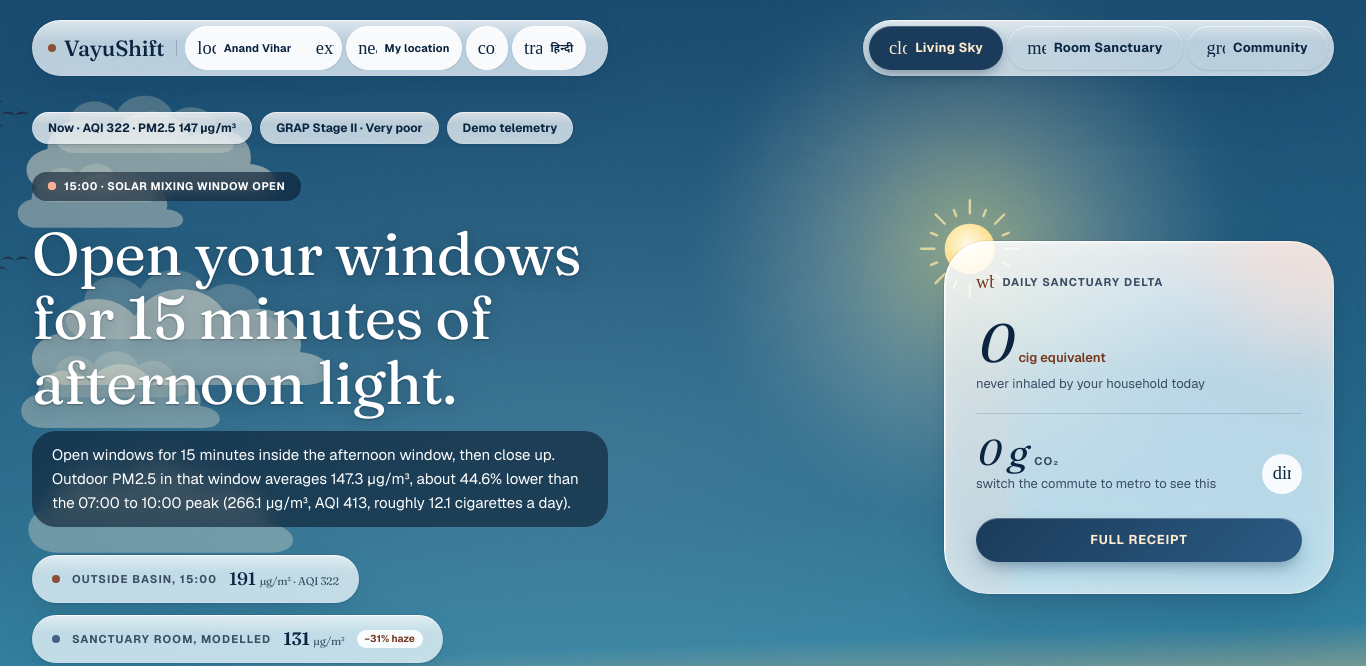
it: language switch › a status message already on screen is re-rendered when the language changes
Click the button with aria-label "Use my location" at [404, 48], box [346,26,462,70]
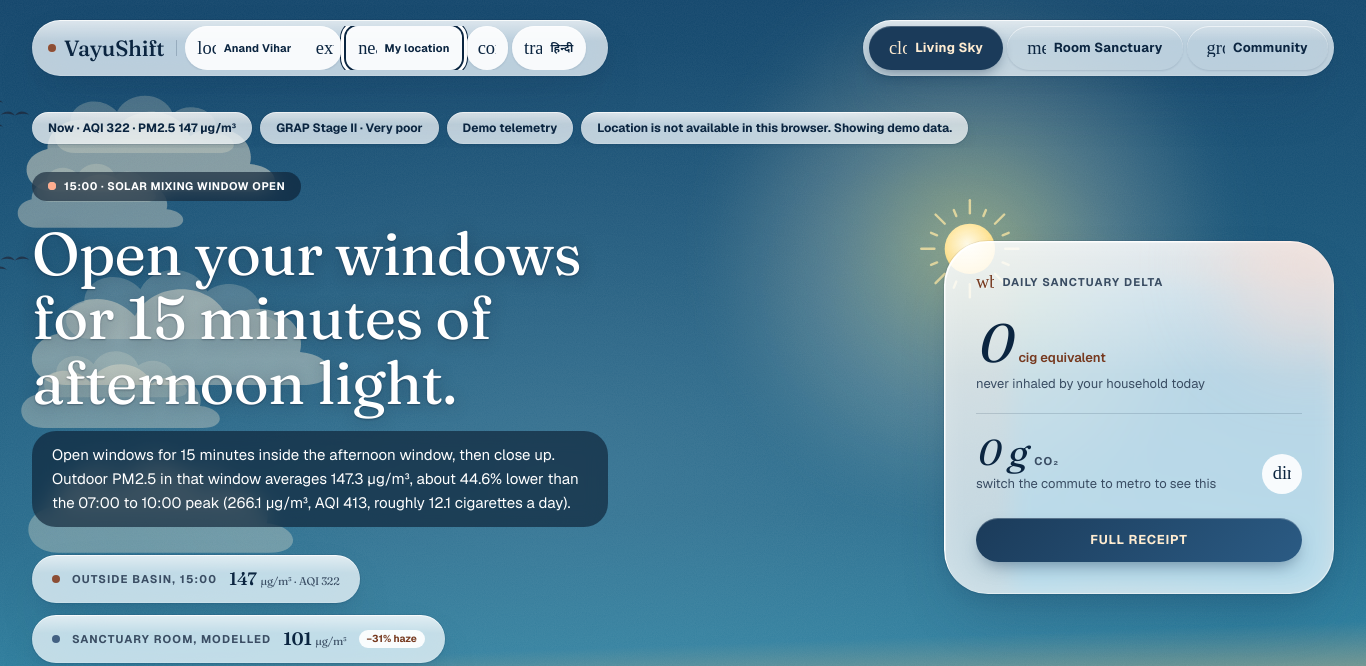
expect the text "Location is not available in this browser. Showing demo data." is shown: met, box [581,112,968,144]
Click the button named "Switch language to Hindi" at [549, 48], box [512,26,586,70]
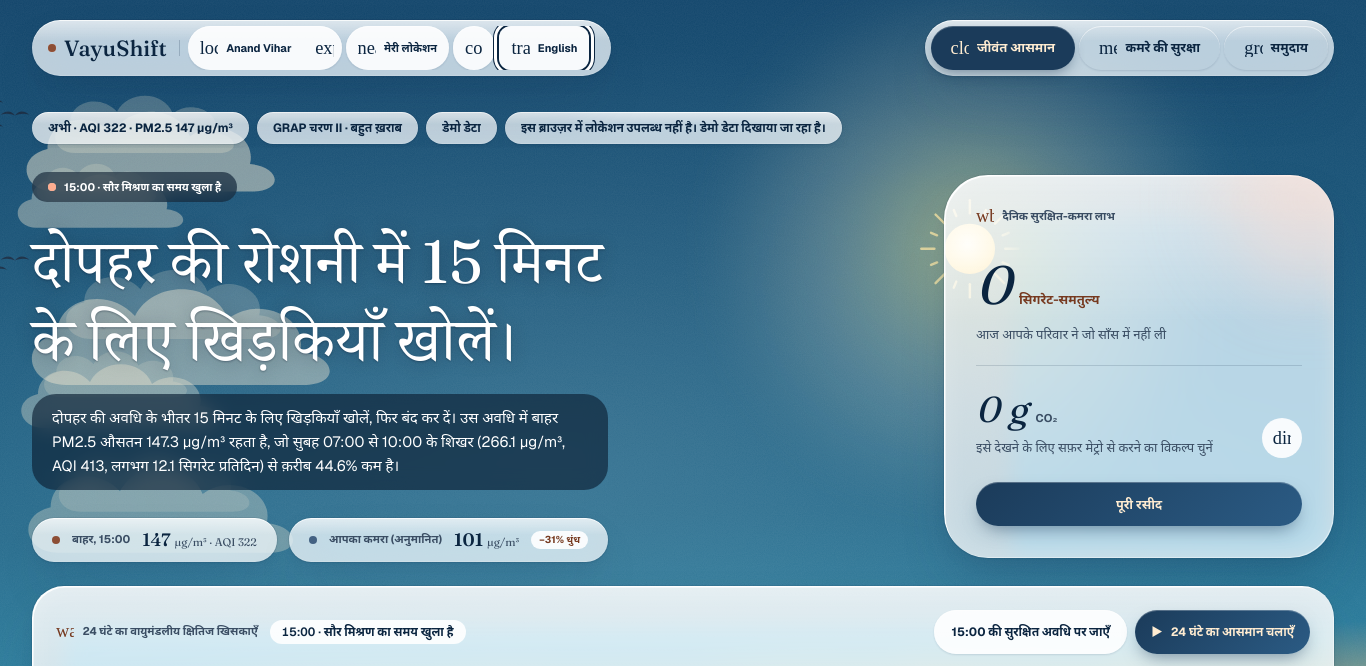
expect the text "इस ब्राउज़र में लोकेशन उपलब्ध नहीं है। डेमो डेटा दिखाया जा रहा है।" is shown: met, box [505,112,842,144]
expect the text "Location is not available in this browser. Showing demo data." is gone: met
